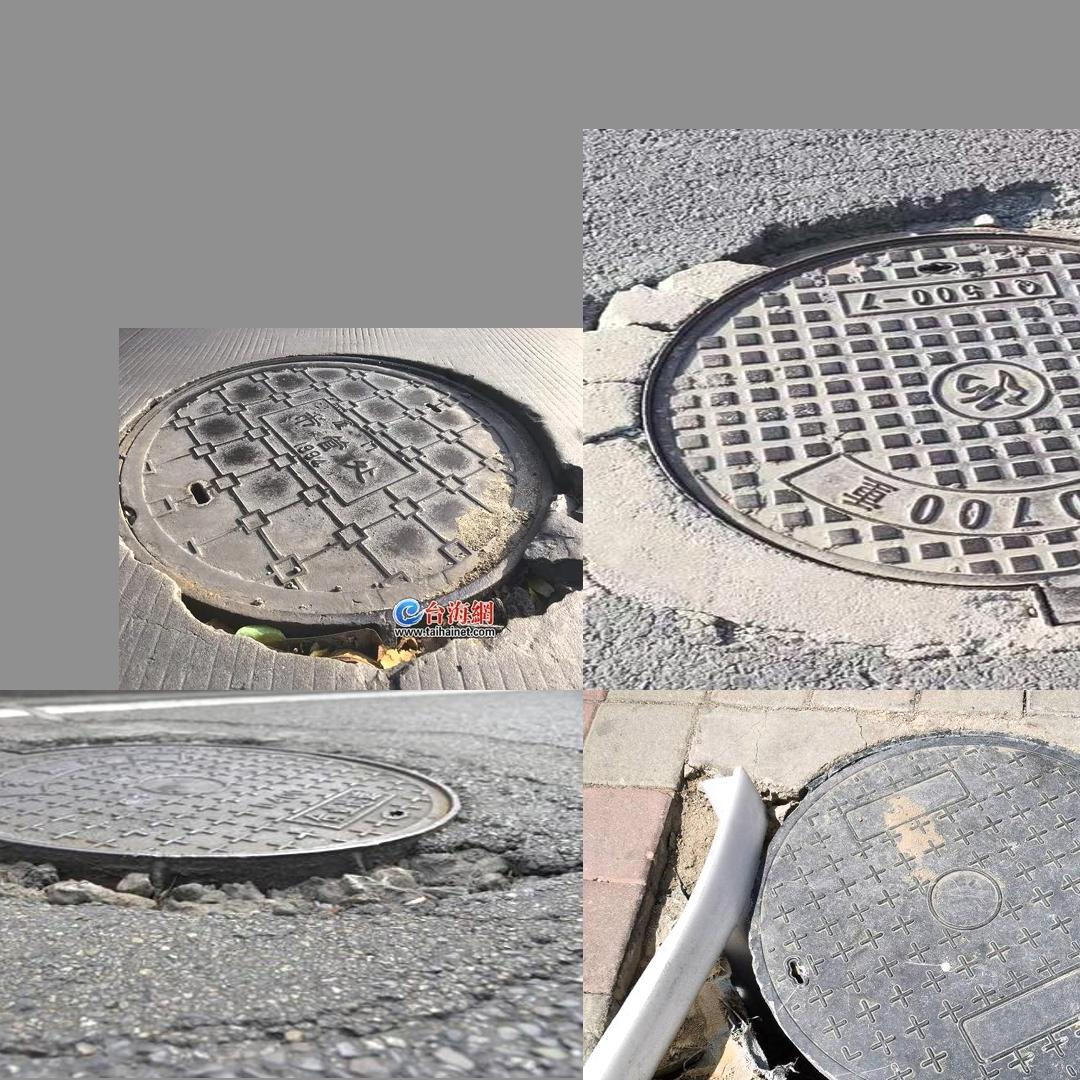circle: (608, 195, 1080, 646), (630, 732, 1080, 1080), (129, 350, 573, 674), (0, 726, 553, 929)
